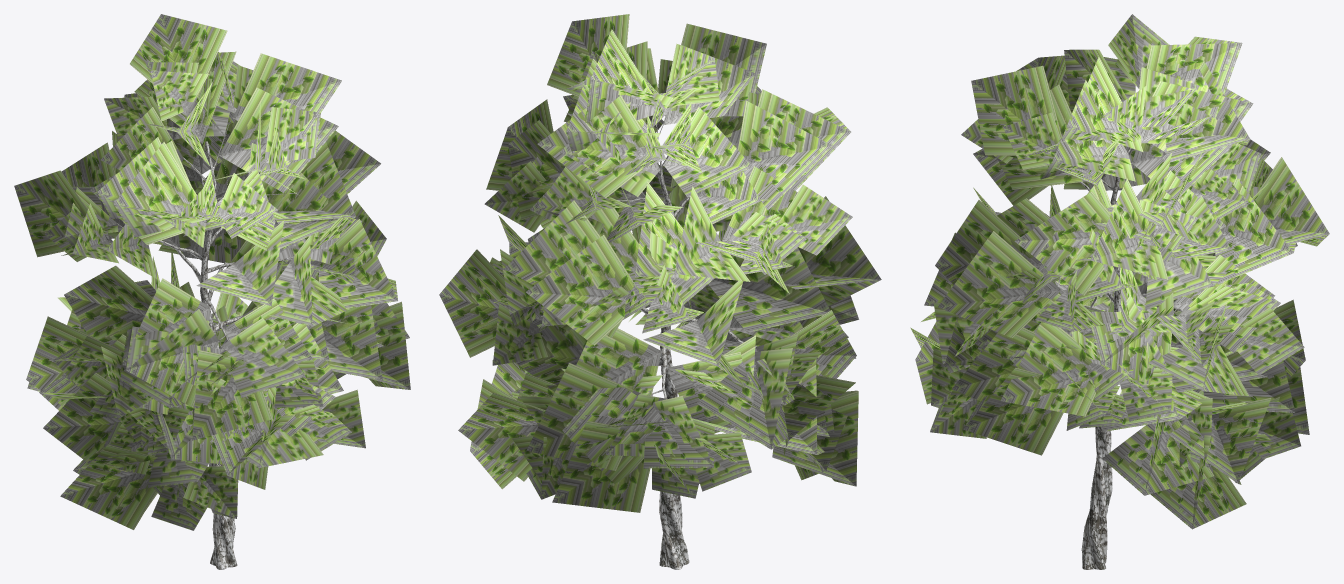
File: birch01.obj
The picture shows the model from 3 angles, left to right: view 1: azimuth 30°, elevation 25°; view 2: azimuth 150°, elevation 25°; view 3: azimuth 270°, elevation 25°; orthographic projection. The views are drawn at different scales.
Visible parts, largest first — view 1: tree; view 2: tree; view 3: tree.
Boxes of the visible parts, x1=… form: tree: x1=14, y1=14, x2=410, y2=569; tree: x1=439, y1=14, x2=881, y2=569; tree: x1=910, y1=14, x2=1329, y2=569.
Size of the model in its own units: 168 by 244 by 173.
2 materials, 2 textured.
